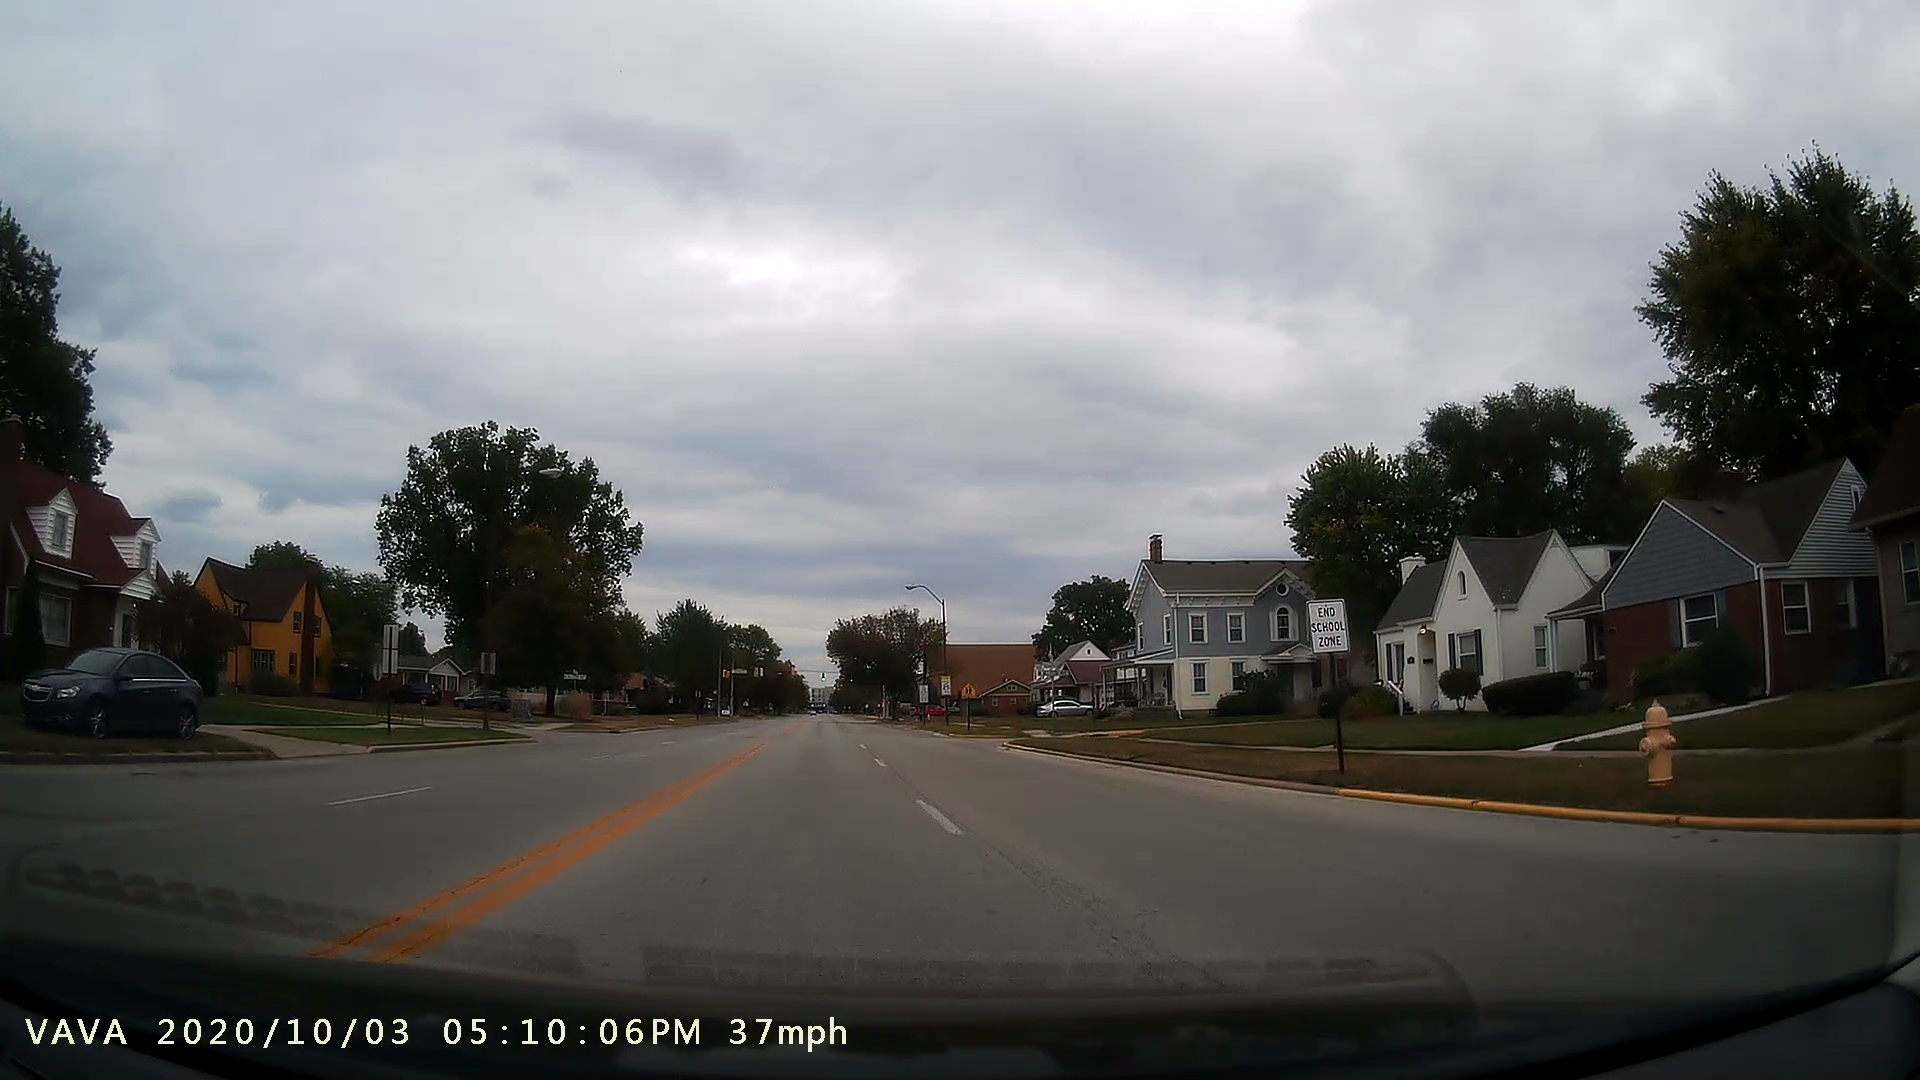fire_hydrant: (1621, 686, 1687, 790)
